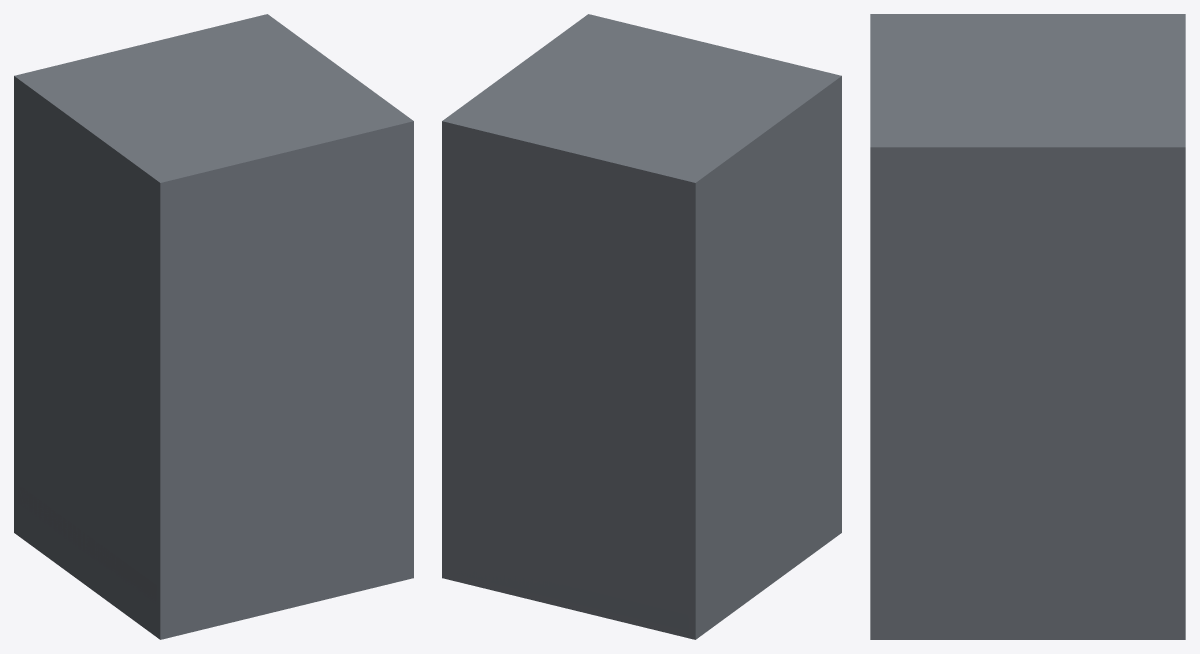
File: beacon.glb
3 views of the same model, side by side, from view 1: azimuth 30°, elevation 25°; view 2: azimuth 150°, elevation 25°; view 3: azimuth 270°, elevation 25° (orthographic). The views are drawn at different scales.
Parts seen in each view (by area): view 1: col_beacon, beacon; view 2: col_beacon, beacon; view 3: col_beacon.
Part boxes in pixels (bbox=[...]): col_beacon: bbox=[14, 14, 413, 639]; beacon: bbox=[18, 485, 406, 630]; col_beacon: bbox=[442, 14, 841, 639]; beacon: bbox=[450, 515, 837, 630]; col_beacon: bbox=[870, 14, 1185, 639].
Bounding box in the file's own units: 1.8 × 3.1 × 1.8.
Materials: 2 (2 with a texture image).
